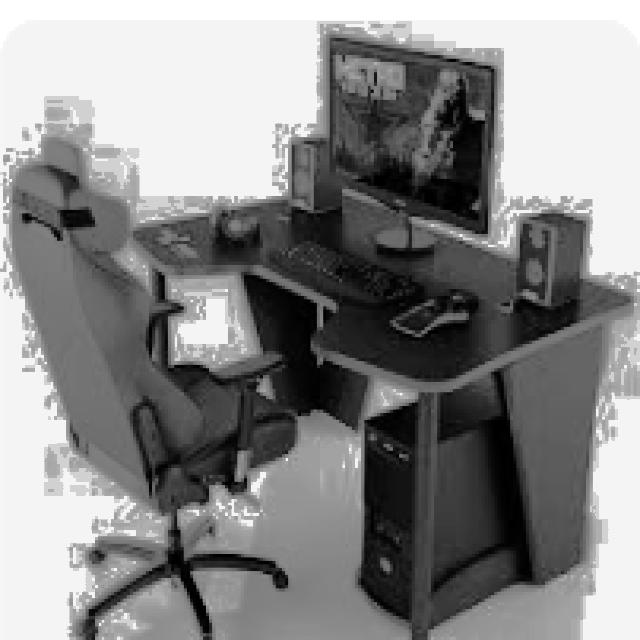book: (9, 138, 298, 636)
table: (126, 186, 634, 636)
